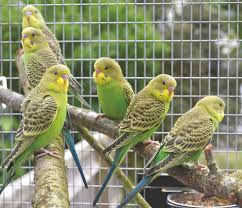budgie: (120, 94, 228, 207), (96, 72, 179, 192), (4, 64, 73, 175), (88, 57, 132, 105), (20, 26, 57, 66), (19, 4, 49, 27)
